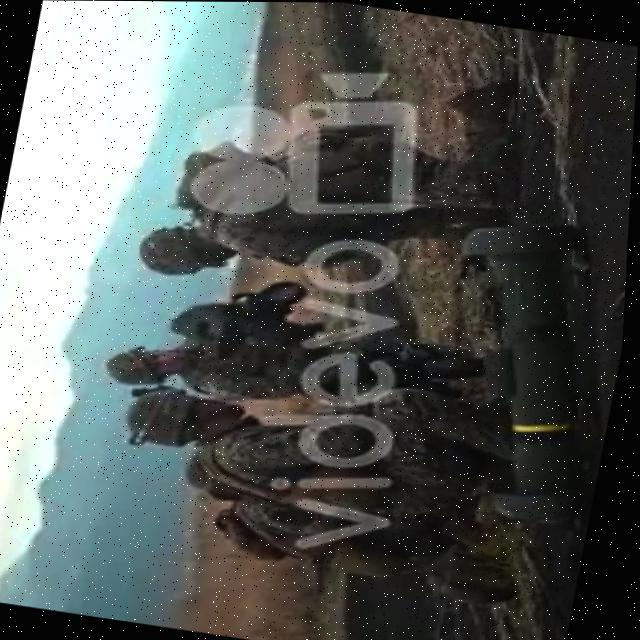rocket: (413, 204, 632, 546)
